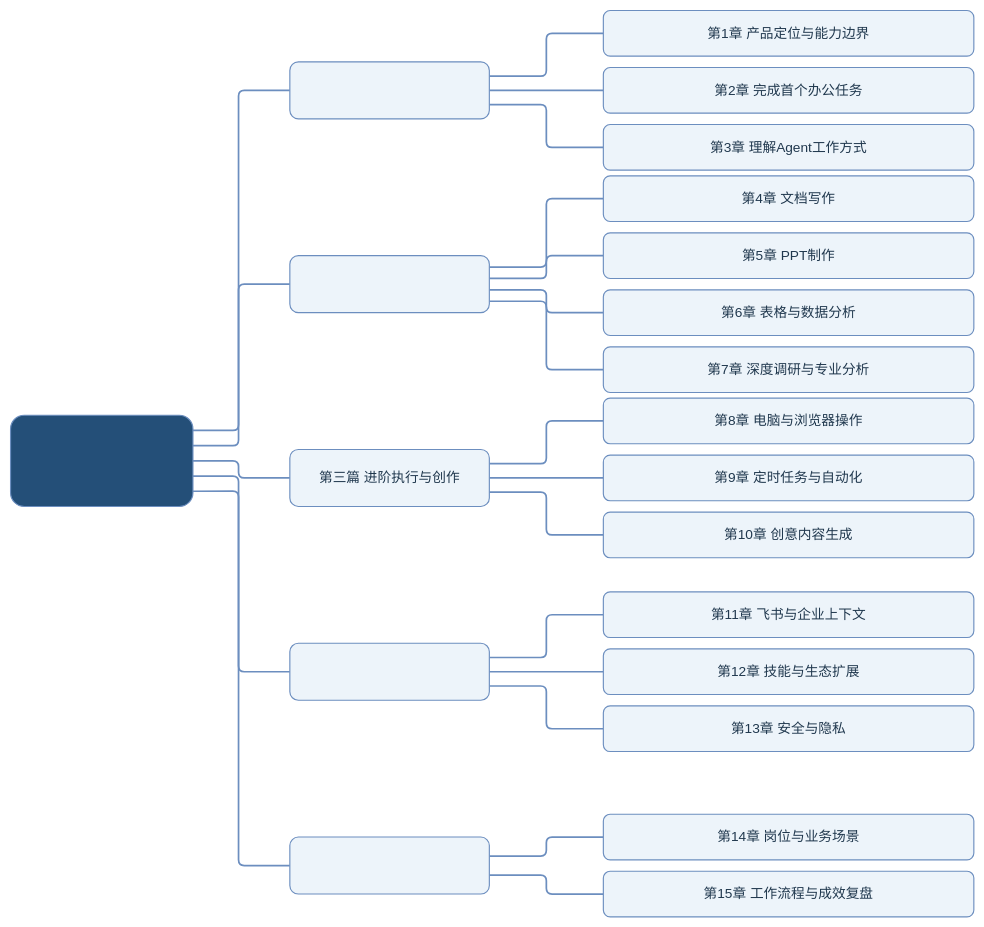
Image size: 984x927. Some labels were removed from this diagram. Each missing label, with the centre of its shape:
"第一篇 认识与上手" belongs at point (389, 90).
"第二篇 核心交付" belongs at point (389, 284).
"第五篇 岗位实践与展望" belongs at point (389, 865).
"第四篇 组织协作与治理" belongs at point (389, 671).
"豆包工作 14天玩转AI办公" belongs at point (101, 460).
